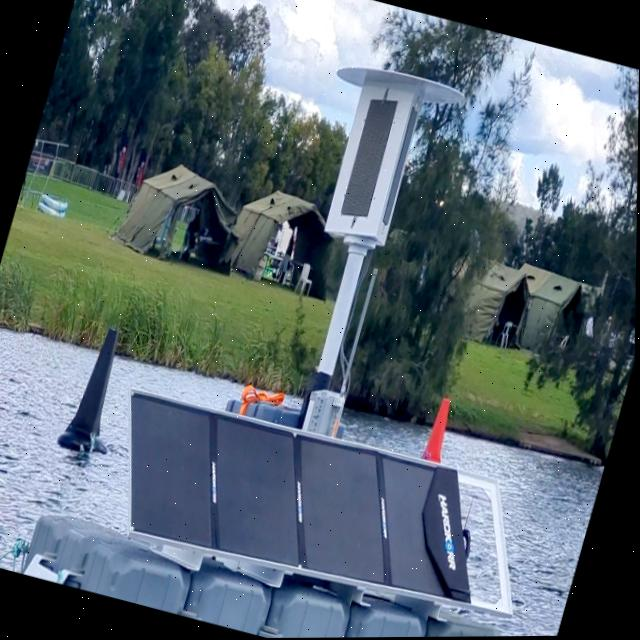led: (329, 81, 412, 231)
